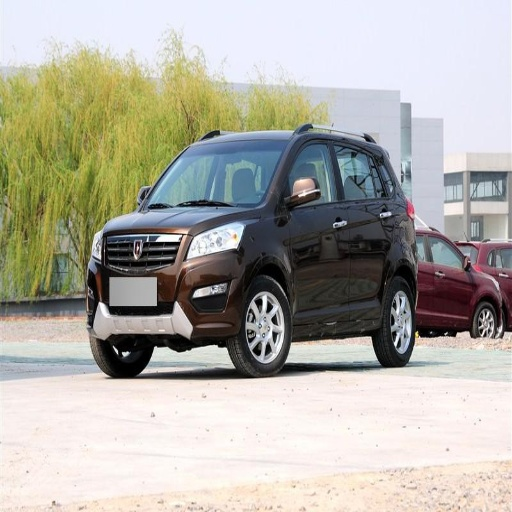front_bumper: (89, 233, 244, 337)
front_glass: (144, 140, 285, 207)
front_left_door: (280, 137, 348, 321)
front_left_light: (185, 224, 242, 262)
front_right_door: (432, 235, 471, 314)
